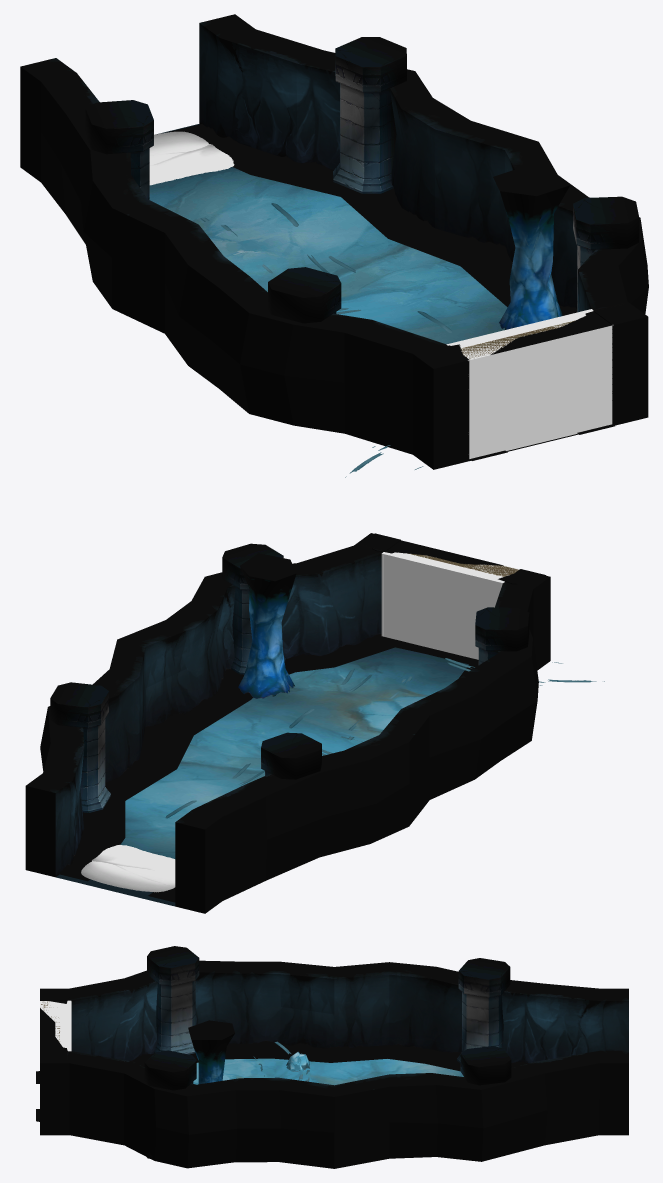
Rendered from Dungeon_033_StartRoad_002.fbx.
3 views of the same model, one above another, from view 1: azimuth 30°, elevation 25°; view 2: azimuth 150°, elevation 25°; view 3: azimuth 270°, elevation 25° (orthographic). The views are drawn at different scales.
Visible parts, largest first — view 1: Dan1, Dan2, DoorWay_NavMask (1), Dan1_shadow, Dungeon_033_Pillar_001, Dungeon_011_Object_010, Dungeon_033_Pillar_001 (3), Dungeon_033_Pillar_001 (1), Dungeon_033_Pillar_001 (2), Exit_Light, Dun_011_Door_002_old, Dun_011_Door_003_WarpRoom; view 2: Dan1, Dan2, Dan1_shadow, DoorWay_NavMask (1), Dungeon_011_Object_010, Dungeon_033_Pillar_001, Exit_Light, Dungeon_033_Pillar_001 (1), Dungeon_033_Pillar_001 (2), Dungeon_033_Pillar_001 (3), Dun_011_Door_002_old, Dun_011_Door_003_WarpRoom; view 3: Dan1, Dungeon_033_Pillar_001 (2), Dungeon_033_Pillar_001 (3), Dan1_shadow, Dan2, Dungeon_011_Object_010, Dungeon_033_Pillar_001 (1), Dungeon_033_Pillar_001, Dun_011_Door_002_old, DoorWay_NavMask (1).
Part boxes in pixels (bbox=[...]): Dan1: bbox=[20, 14, 648, 469]; Dan2: bbox=[149, 124, 511, 344]; DoorWay_NavMask (1): bbox=[446, 309, 613, 458]; Dan1_shadow: bbox=[166, 124, 614, 460]; Dungeon_033_Pillar_001: bbox=[333, 37, 406, 193]; Dungeon_011_Object_010: bbox=[493, 168, 569, 329]; Dungeon_033_Pillar_001 (3): bbox=[85, 100, 153, 199]; Dungeon_033_Pillar_001 (1): bbox=[573, 196, 639, 312]; Dungeon_033_Pillar_001 (2): bbox=[268, 267, 341, 323]; Exit_Light: bbox=[149, 131, 234, 185]; Dun_011_Door_002_old: bbox=[420, 303, 642, 423]; Dun_011_Door_003_WarpRoom: bbox=[460, 320, 575, 358]; Dan1: bbox=[25, 533, 550, 913]; Dan2: bbox=[56, 647, 468, 906]; Dan1_shadow: bbox=[58, 634, 478, 902]; DoorWay_NavMask (1): bbox=[381, 552, 519, 659]; Dungeon_011_Object_010: bbox=[238, 553, 296, 698]; Dungeon_033_Pillar_001: bbox=[50, 682, 110, 812]; Exit_Light: bbox=[81, 845, 175, 892]; Dungeon_033_Pillar_001 (1): bbox=[222, 543, 285, 674]; Dungeon_033_Pillar_001 (2): bbox=[475, 607, 529, 664]; Dungeon_033_Pillar_001 (3): bbox=[261, 732, 322, 857]; Dun_011_Door_002_old: bbox=[360, 533, 545, 586]; Dun_011_Door_003_WarpRoom: bbox=[408, 553, 518, 576]; Dan1: bbox=[40, 960, 628, 1168]; Dungeon_033_Pillar_001 (2): bbox=[147, 946, 199, 1054]; Dungeon_033_Pillar_001 (3): bbox=[457, 958, 510, 1063]; Dan1_shadow: bbox=[36, 1041, 527, 1121]; Dan2: bbox=[193, 1058, 463, 1085]; Dungeon_011_Object_010: bbox=[188, 1020, 234, 1084]; Dungeon_033_Pillar_001 (1): bbox=[144, 1050, 196, 1159]; Dungeon_033_Pillar_001: bbox=[460, 1046, 511, 1154]; Dun_011_Door_002_old: bbox=[40, 989, 67, 1060]; DoorWay_NavMask (1): bbox=[40, 1000, 71, 1051].
Size of what is drawn, in the model's own units: 8.76 by 2.96 by 16.17.
